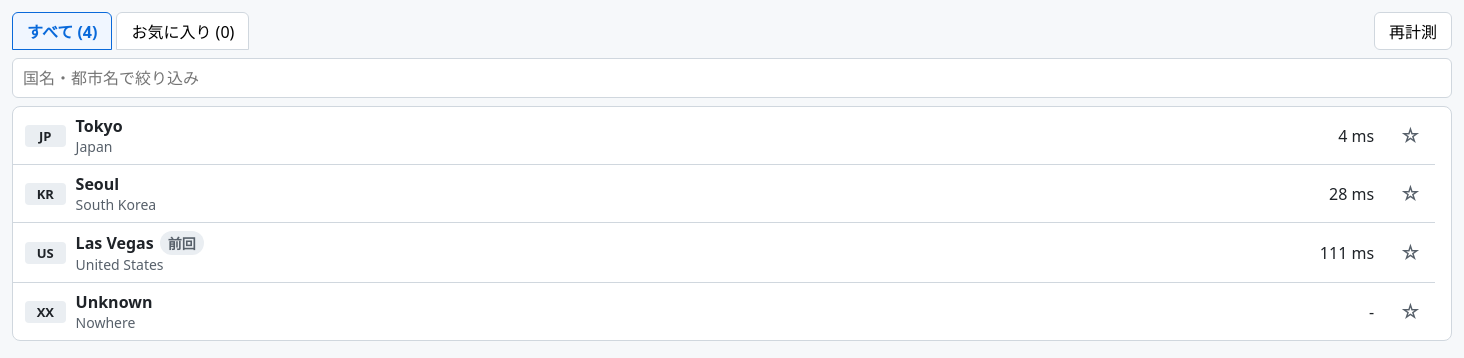
Test: LocationList › お気に入りが0件のときは、追加方法を案内する
The image size is (1464, 358).
Click the tab "お気に入り (0)": (183, 31) [116,12,249,50]
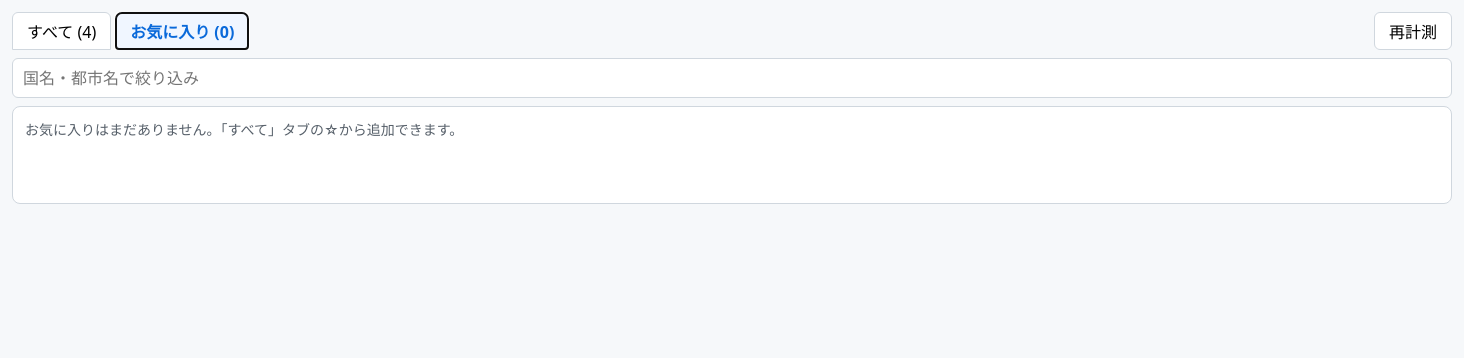
Expected: the text "お気に入りはまだありません。「すべて」タブの☆から追加できます。" is shown, [25,120,463,139]
